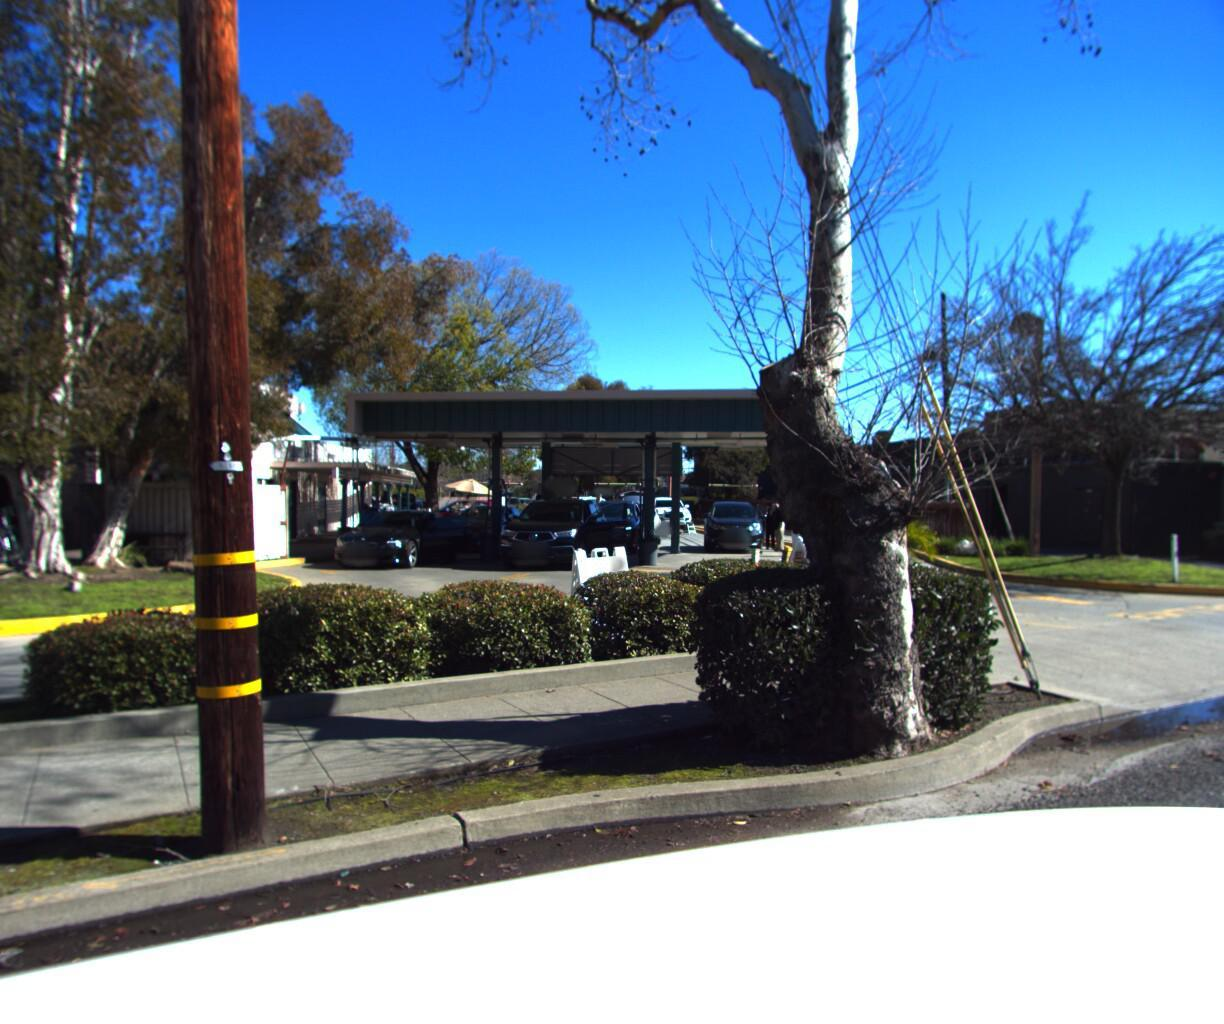car: (488, 490, 620, 567), (322, 506, 458, 569), (570, 496, 657, 554), (436, 503, 536, 551), (418, 488, 521, 527), (703, 495, 770, 550), (608, 500, 665, 545), (641, 494, 692, 529)
